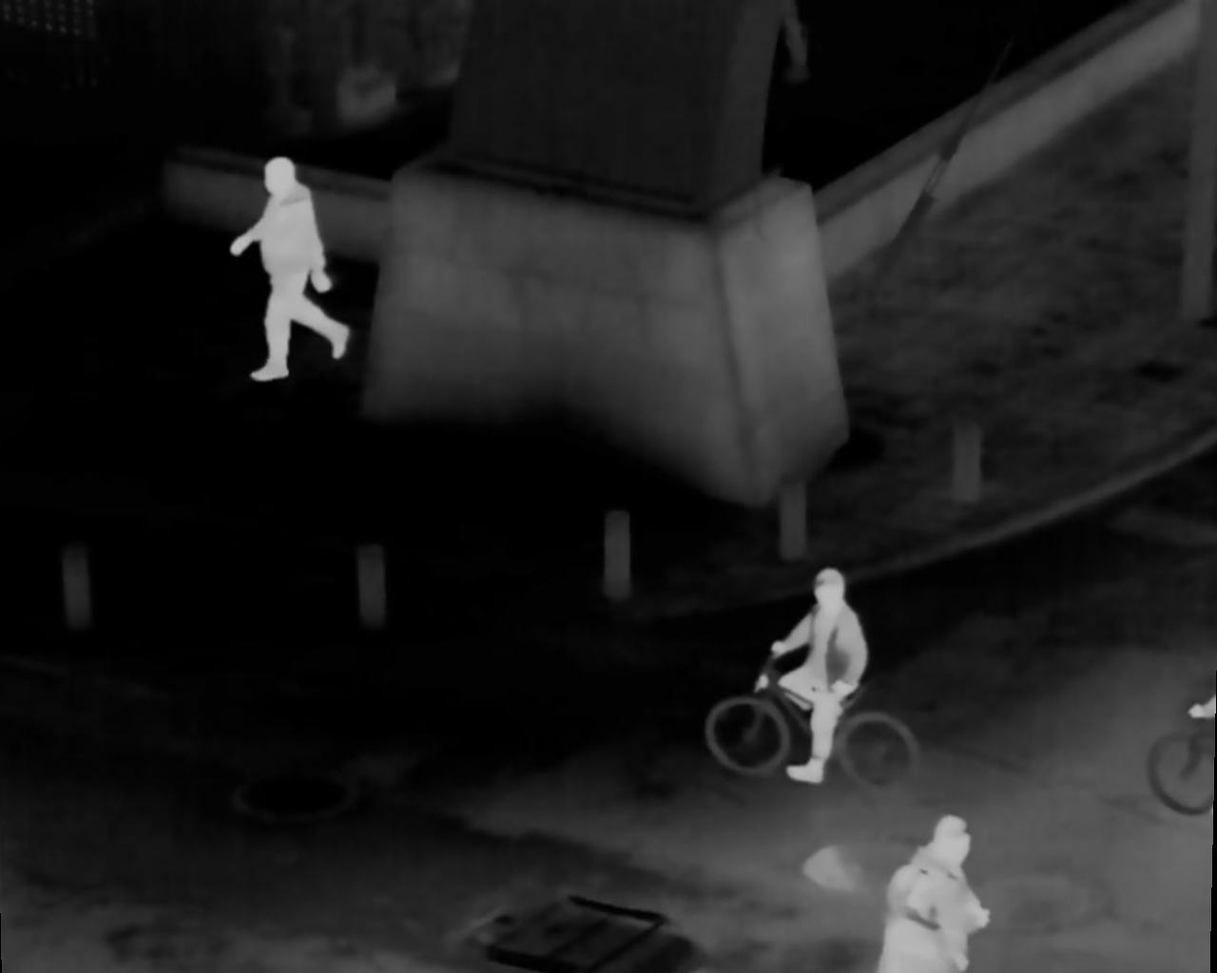person: (229, 158, 350, 381), (764, 567, 877, 794), (895, 814, 990, 972), (876, 872, 953, 973)
